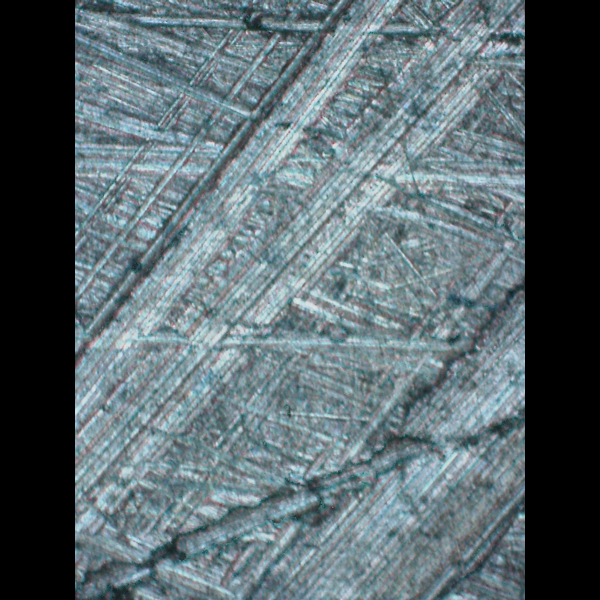d: (76, 0, 525, 546), (241, 264, 525, 597)
